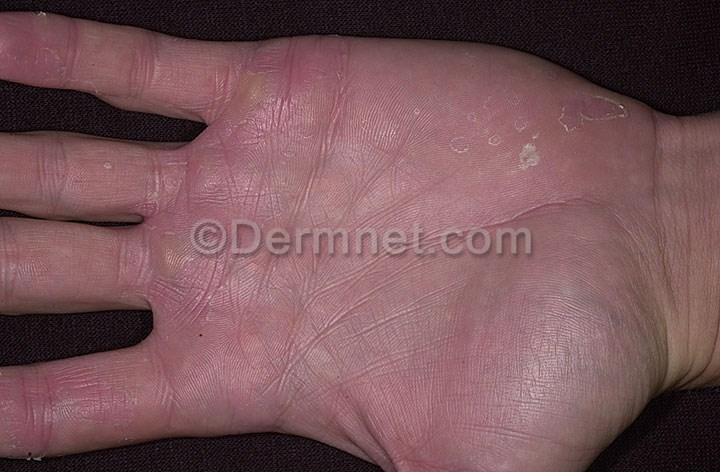Eczema: (2, 370, 153, 437), (444, 90, 546, 175), (543, 90, 638, 147), (131, 226, 201, 285), (0, 33, 77, 78), (281, 80, 340, 131), (230, 57, 279, 118), (93, 153, 137, 181)
